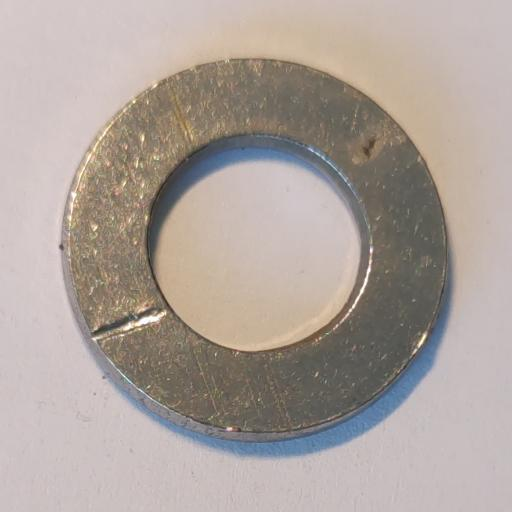scratch: (91, 307, 168, 340)
